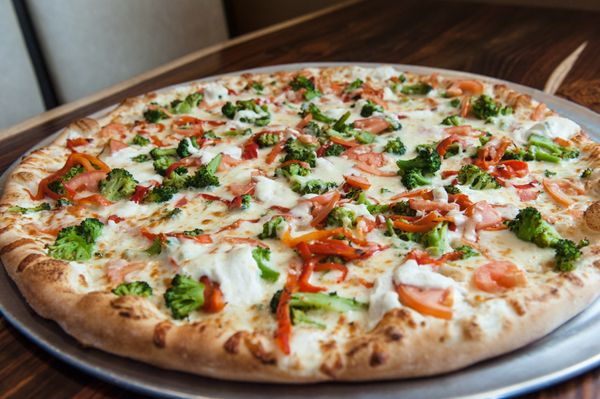curry: (45, 218, 104, 262), (164, 274, 205, 320), (99, 168, 139, 204), (470, 93, 500, 121)
